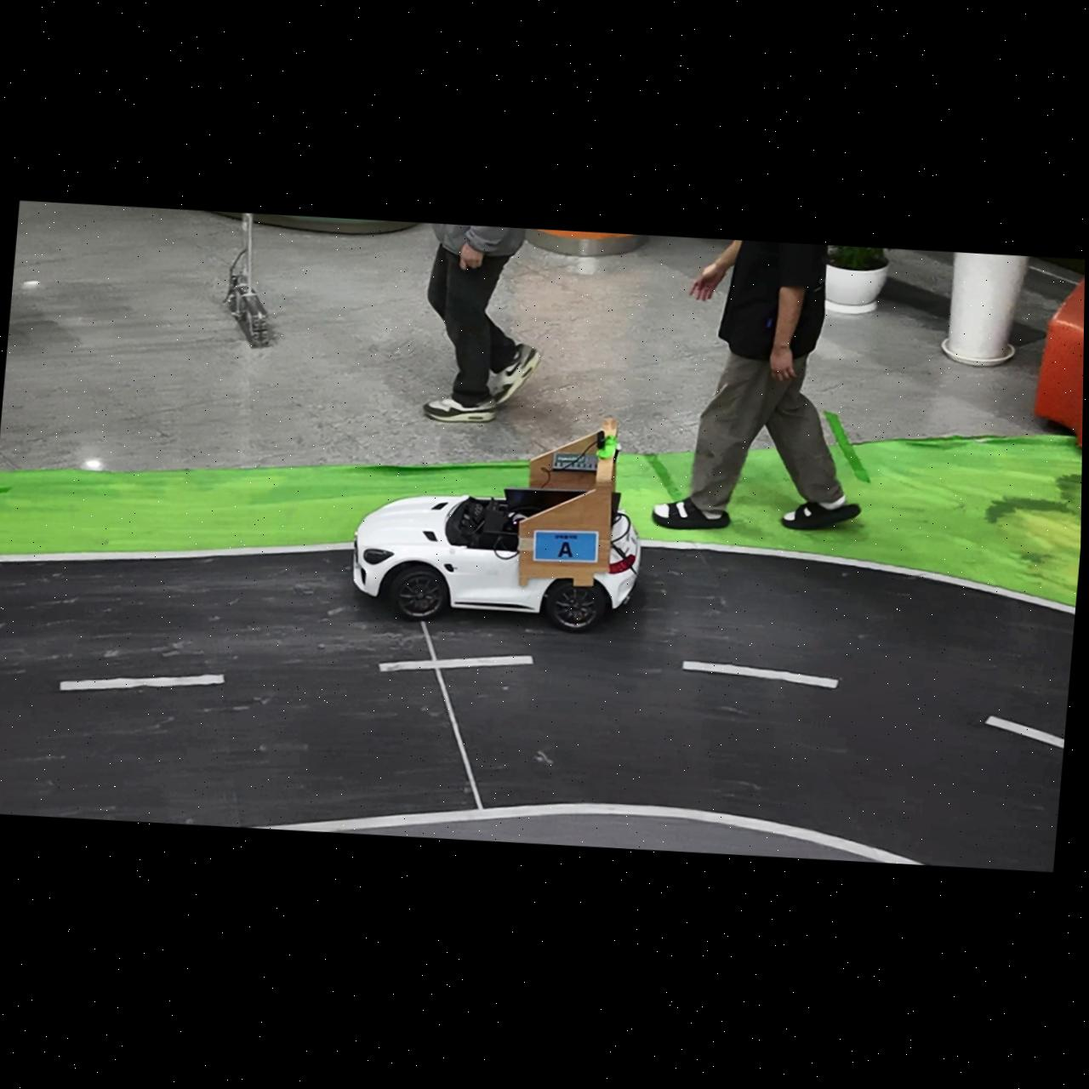broken_line: (683, 662, 838, 688), (378, 655, 534, 672), (985, 716, 1064, 749), (59, 674, 225, 689)
